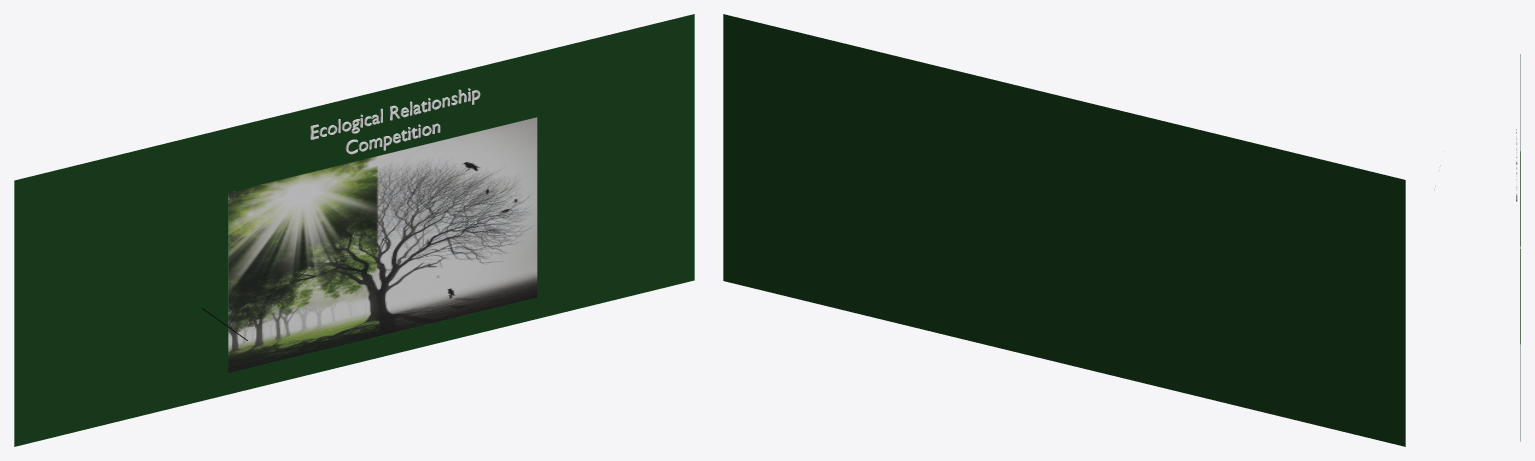
Rendered from competition.gltf.
3 views of the same model, side by side, from view 1: azimuth 30°, elevation 25°; view 2: azimuth 150°, elevation 25°; view 3: azimuth 270°, elevation 25° (orthographic). The views are drawn at different scales.
Visible parts, largest first — view 1: Plane.013, Plane, Text.008, Text.001; view 2: Plane.013; view 3: Plane.013, Text.008.
Boxes of the visible parts, x1,y1,x2,y2 form: Plane.013: (14, 14, 694, 446); Plane: (228, 117, 537, 372); Text.008: (310, 88, 480, 139); Text.001: (345, 123, 440, 154); Plane.013: (723, 14, 1405, 446); Plane.013: (1520, 54, 1520, 441); Text.008: (1516, 129, 1517, 199).
Size of the model in its own units: 15.94 by 5.96 by 2.43.
5 materials, 1 textured.
